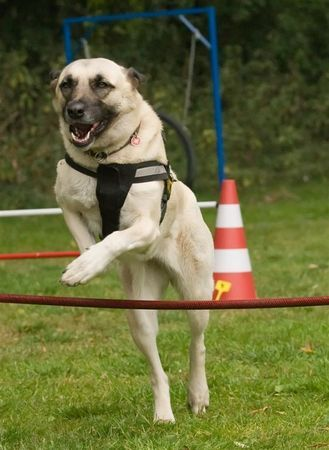kangal: (49, 57, 215, 425)
